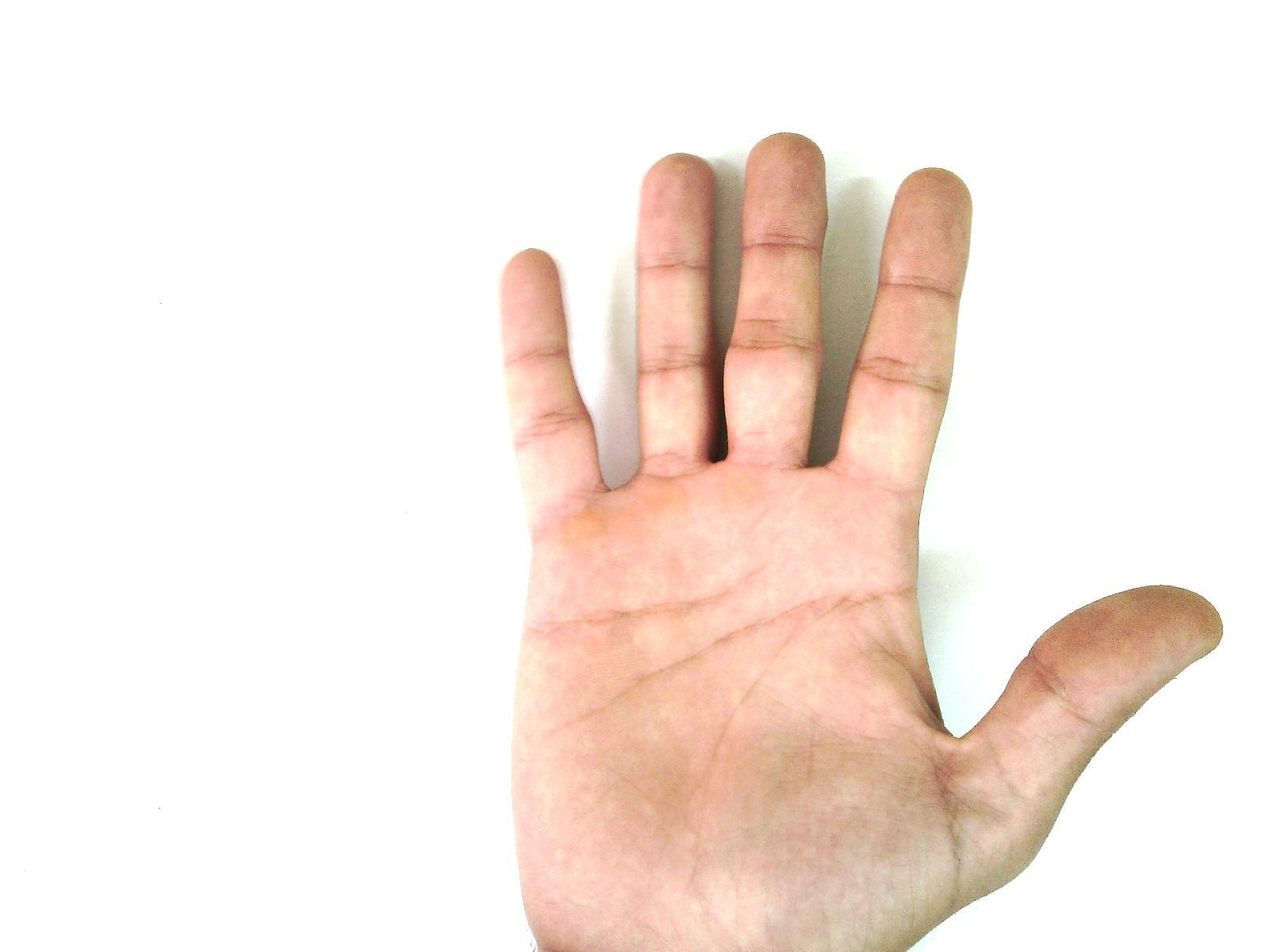open_palm: (494, 131, 1225, 951)
